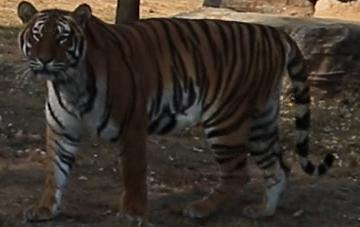tiger: (17, 0, 308, 217)
